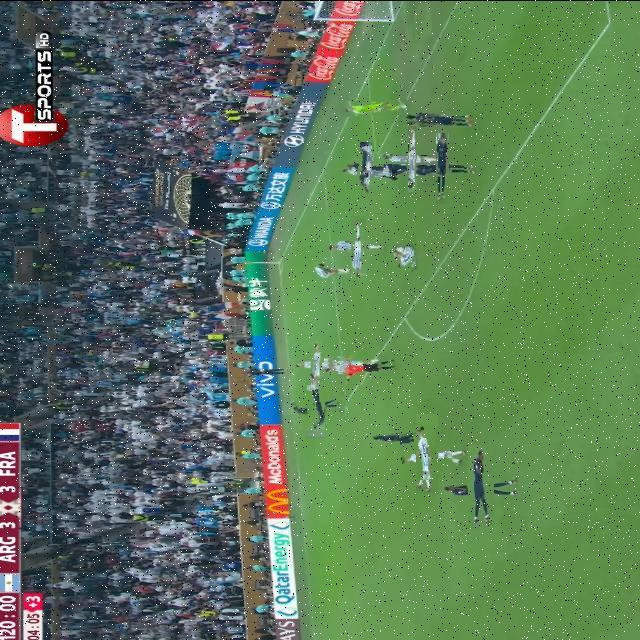goalkeeper: (340, 99, 407, 115)
player: (453, 459, 510, 515), (401, 427, 454, 480), (291, 381, 339, 427), (422, 146, 464, 189), (400, 109, 479, 131), (338, 227, 379, 268), (346, 150, 385, 188), (393, 139, 432, 177), (301, 349, 333, 381), (388, 243, 418, 273), (312, 257, 352, 277), (324, 354, 384, 367)
referee: (337, 352, 397, 385)
